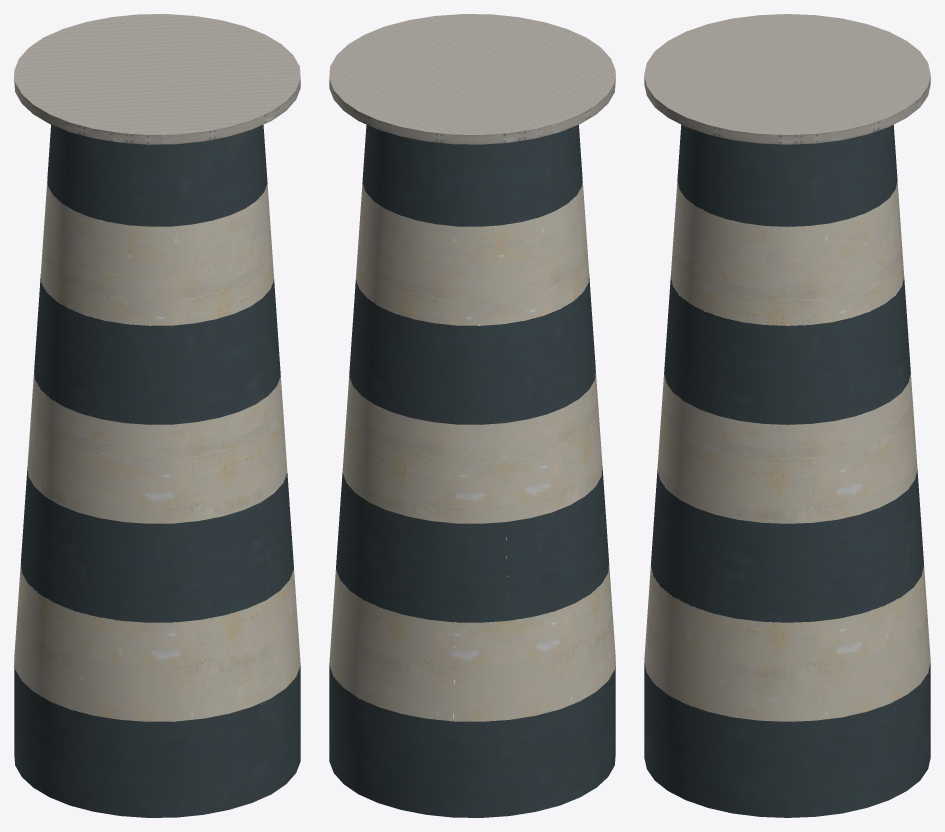
The picture shows the model from 3 angles, left to right: view 1: azimuth 30°, elevation 25°; view 2: azimuth 150°, elevation 25°; view 3: azimuth 270°, elevation 25°; orthographic projection.
Parts seen in each view (by area): view 1: body0_model0_lod0_mesh1, body0_model0_lod0_mesh4, body0_model0_lod0_mesh2, body0_model0_lod0_mesh3; view 2: body0_model0_lod0_mesh1, body0_model0_lod0_mesh4, body0_model0_lod0_mesh2, body0_model0_lod0_mesh3; view 3: body0_model0_lod0_mesh1, body0_model0_lod0_mesh4, body0_model0_lod0_mesh2, body0_model0_lod0_mesh3.
Boxes of the visible parts, left/top/right/bottom form: body0_model0_lod0_mesh1: left=14, top=124, right=300, bottom=817; body0_model0_lod0_mesh4: left=14, top=178, right=300, bottom=721; body0_model0_lod0_mesh2: left=14, top=14, right=300, bottom=134; body0_model0_lod0_mesh3: left=14, top=74, right=300, bottom=144; body0_model0_lod0_mesh1: left=329, top=124, right=615, bottom=817; body0_model0_lod0_mesh4: left=329, top=178, right=615, bottom=721; body0_model0_lod0_mesh2: left=329, top=14, right=615, bottom=134; body0_model0_lod0_mesh3: left=329, top=74, right=615, bottom=144; body0_model0_lod0_mesh1: left=644, top=125, right=930, bottom=817; body0_model0_lod0_mesh4: left=644, top=181, right=930, bottom=721; body0_model0_lod0_mesh2: left=644, top=14, right=930, bottom=134; body0_model0_lod0_mesh3: left=644, top=76, right=930, bottom=144.
Size of the model in its own units: 432 by 1136 by 432.
5 materials, 5 textured.
